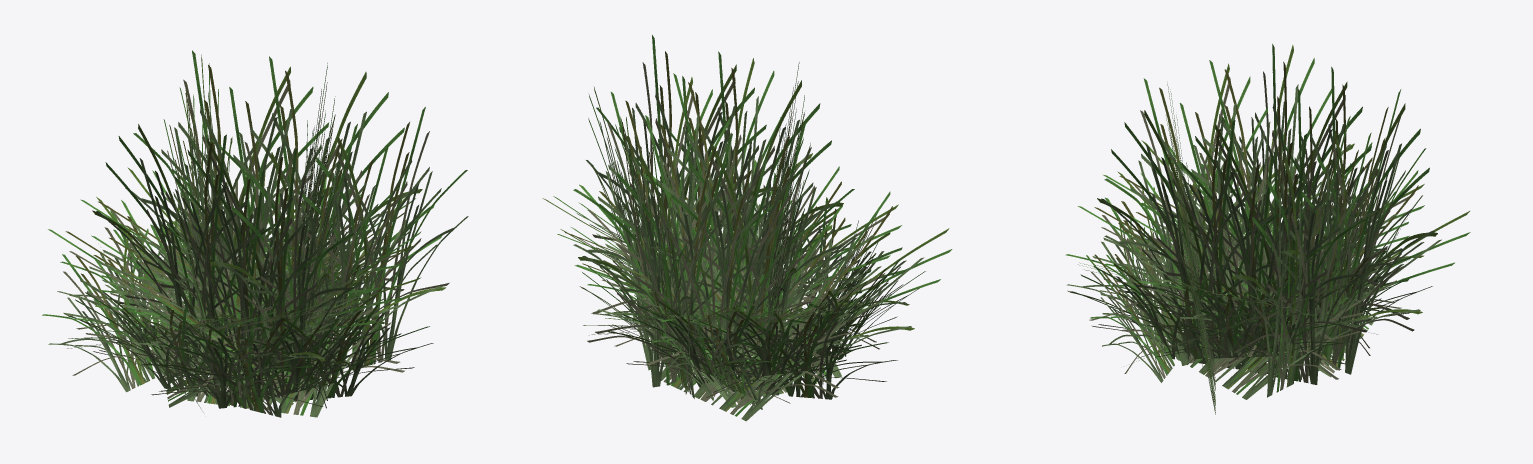
File: swampGrass.fbx
3 renders of one model, left to right at view 1: azimuth 30°, elevation 25°; view 2: azimuth 150°, elevation 25°; view 3: azimuth 270°, elevation 25°, orthographic. The views are drawn at different scales.
Parts seen in each view (by area): view 1: Plane.002; view 2: Plane.002; view 3: Plane.002.
Part boxes in pixels (<box>): Plane.002: <box>42,50,468,417</box>; Plane.002: <box>542,35,952,421</box>; Plane.002: <box>1065,44,1470,414</box>.
Size of the model in its own units: 332 by 198 by 314.
